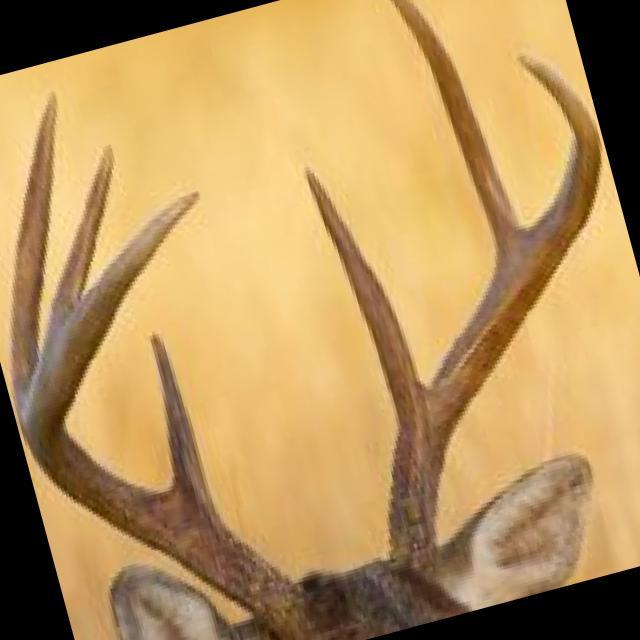L-F: (385, 49, 604, 578)
L-G1: (299, 160, 427, 434)
L-G2: (389, 0, 524, 261)
R-F: (15, 183, 364, 640)
R-G1: (147, 326, 224, 527)
R-G2: (10, 89, 57, 406)
R-G3: (52, 141, 118, 310)
